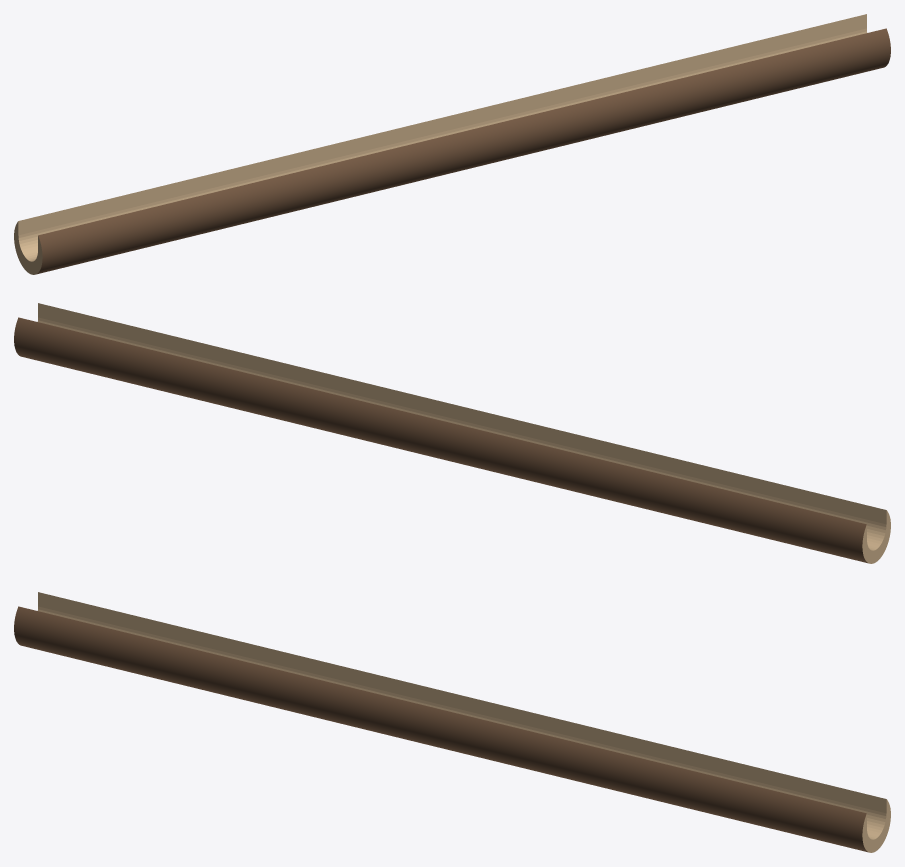
The model's file is SM_RawLog_600_Gutter.fbx.
3 views of the same model, one above another, from view 1: azimuth 30°, elevation 25°; view 2: azimuth 150°, elevation 25°; view 3: azimuth 330°, elevation 25° (orthographic).
Visible parts, largest first — view 1: RawLog_600_Gutter; view 2: RawLog_600_Gutter; view 3: RawLog_600_Gutter.
Boxes of the visible parts, x1,y1,x2,y2 form: RawLog_600_Gutter: (14, 14, 890, 274); RawLog_600_Gutter: (14, 303, 890, 563); RawLog_600_Gutter: (14, 592, 890, 852).
Size of what is drawn, in the model's own units: 6 by 0.302 by 0.35.
